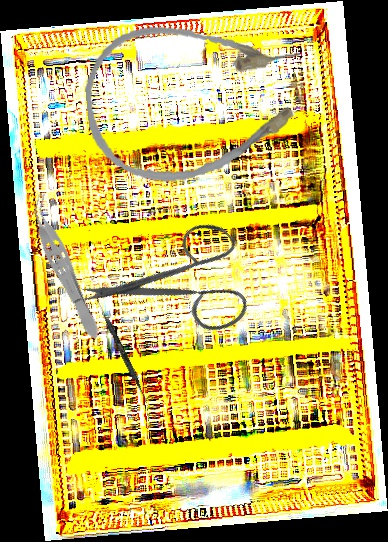Cannula: (79, 10, 313, 191)
Iris Scissors: (74, 185, 278, 390)
Spatula Surgical: (91, 294, 151, 403)
Tissue Forceps: (21, 191, 108, 344)
